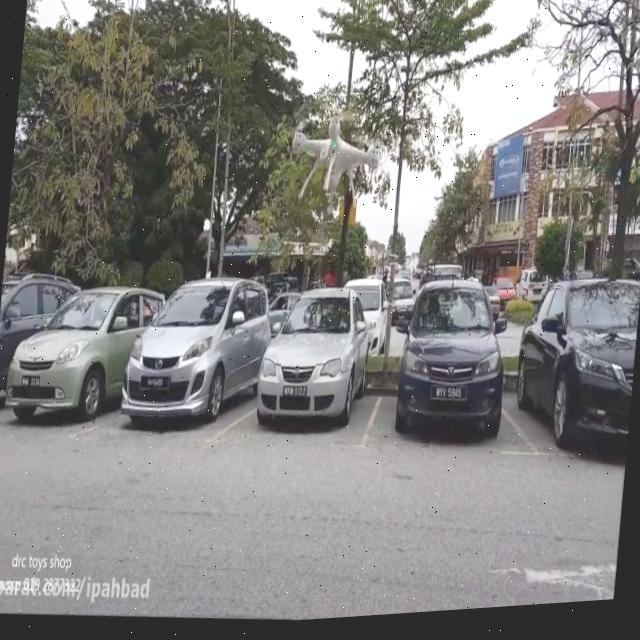drone: (285, 108, 383, 220)
